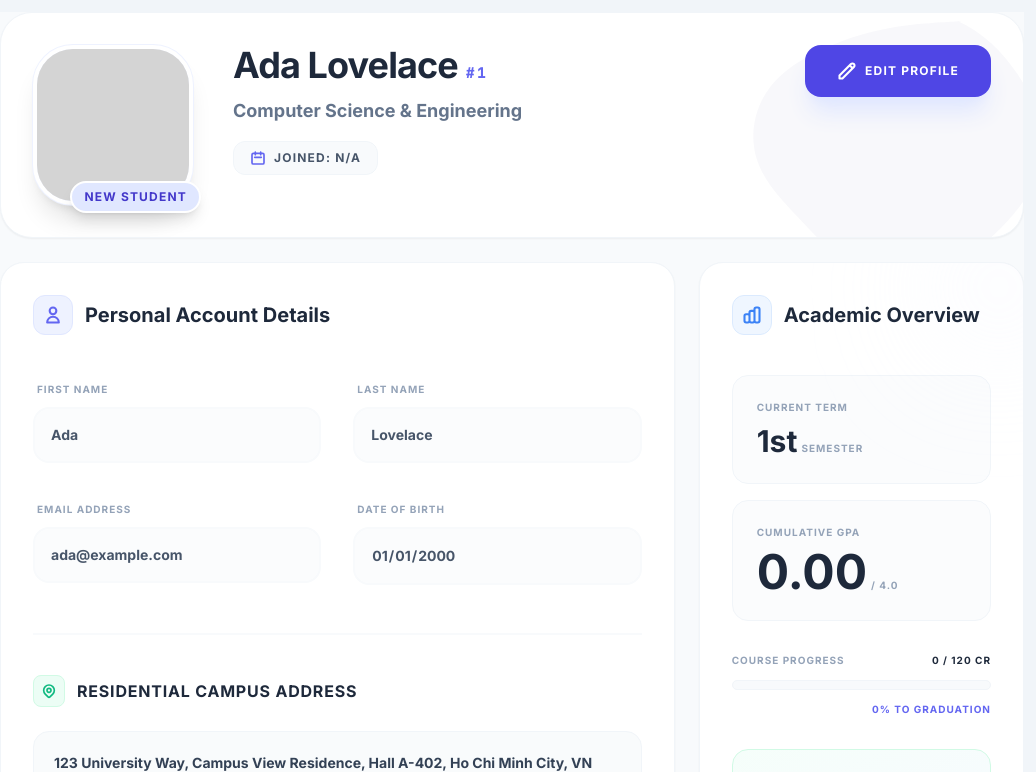
Test: StudentProfile accessibility › associates profile labels and preserves disabled/edit states
Check: the field labelled "First Name" is disabled, box [33,407,321,463]
Check: the field labelled "Last Name" is disabled, box [353,407,642,463]
Click the button "Edit Profile" at (898, 71), box [805,45,991,97]
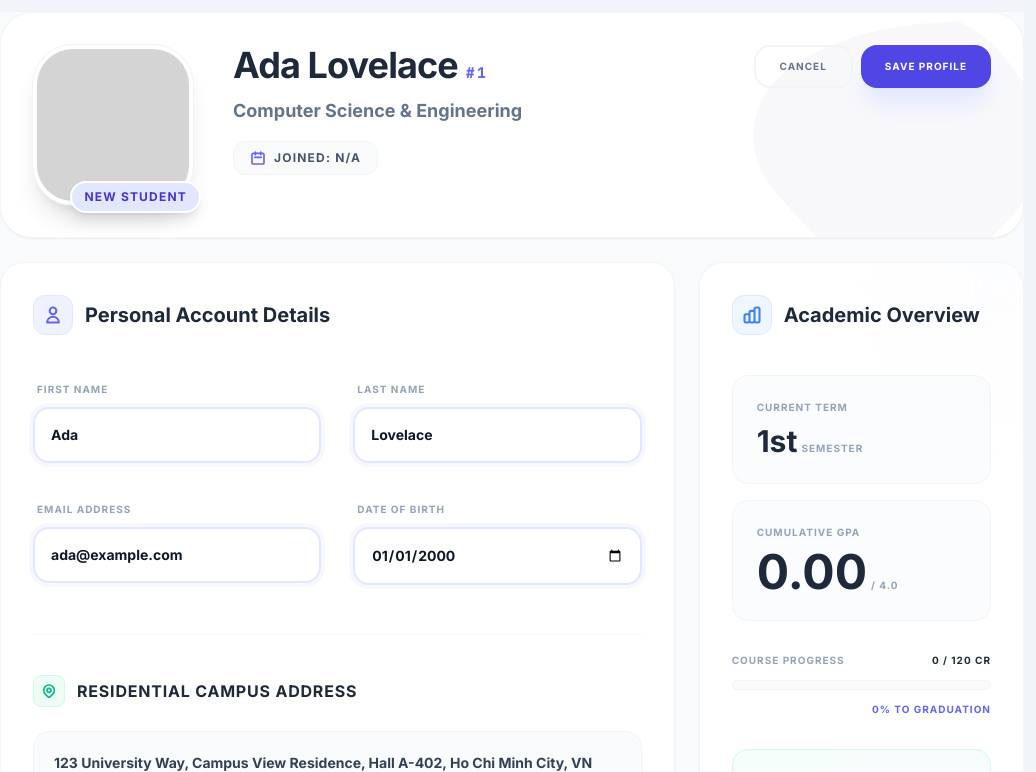
Check: the field labelled "First Name" is enabled, box [33,407,321,463]
